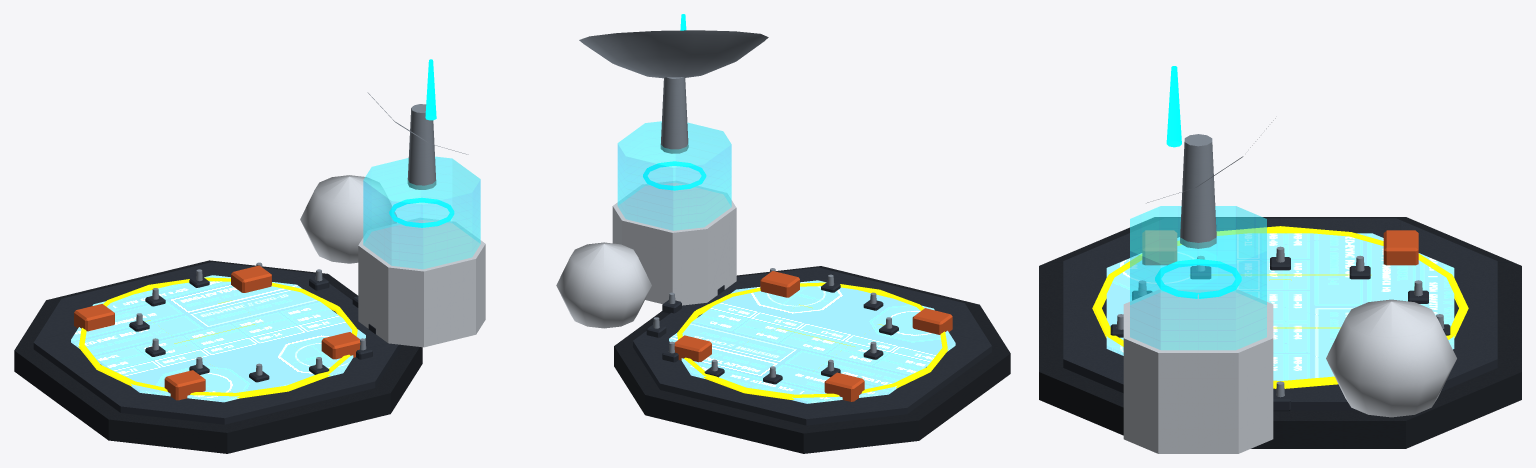
File: prop_05_r1_04.glb
3 views of the same model, side by side, from view 1: azimuth 30°, elevation 25°; view 2: azimuth 150°, elevation 25°; view 3: azimuth 270°, elevation 25° (orthographic). The views are drawn at different scales.
Parts seen in each view (by area): view 1: Prop05_C04_marquee, Prop05_C04_aero_white, Prop05_C04_carbon_slate, Prop05_C04_gunmetal, Prop05_C04_glass_cyan, Prop05_C04_accent_orange, Prop05_C04_steel_machined, Prop05_C04_led_amber, Prop05_C04_led_cyan; view 2: Prop05_C04_marquee, Prop05_C04_aero_white, Prop05_C04_carbon_slate, Prop05_C04_gunmetal, Prop05_C04_glass_cyan, Prop05_C04_steel_machined, Prop05_C04_accent_orange, Prop05_C04_led_amber, Prop05_C04_led_cyan; view 3: Prop05_C04_aero_white, Prop05_C04_marquee, Prop05_C04_gunmetal, Prop05_C04_carbon_slate, Prop05_C04_glass_cyan, Prop05_C04_steel_machined, Prop05_C04_led_amber, Prop05_C04_accent_orange, Prop05_C04_led_cyan.
Part boxes in pixels (box(x1,y1,x2,y2)): Prop05_C04_marquee: box(71, 275, 365, 402); Prop05_C04_aero_white: box(300, 175, 485, 347); Prop05_C04_carbon_slate: box(33, 262, 402, 424); Prop05_C04_gunmetal: box(14, 260, 422, 453); Prop05_C04_glass_cyan: box(363, 156, 480, 268); Prop05_C04_accent_orange: box(74, 265, 360, 400); Prop05_C04_steel_machined: box(136, 92, 468, 375); Prop05_C04_led_amber: box(78, 277, 357, 398); Prop05_C04_led_cyan: box(389, 59, 454, 227); Prop05_C04_marquee: box(669, 280, 955, 403); Prop05_C04_aero_white: box(556, 181, 736, 328); Prop05_C04_carbon_slate: box(633, 267, 991, 425); Prop05_C04_gunmetal: box(614, 266, 1010, 453); Prop05_C04_glass_cyan: box(617, 121, 731, 230); Prop05_C04_steel_machined: box(579, 30, 892, 377); Prop05_C04_accent_orange: box(674, 271, 952, 401); Prop05_C04_led_amber: box(677, 282, 948, 399); Prop05_C04_led_cyan: box(643, 14, 706, 190); Prop05_C04_aero_white: box(1123, 290, 1456, 453); Prop05_C04_marquee: box(1106, 233, 1454, 380); Prop05_C04_gunmetal: box(1039, 217, 1521, 448); Prop05_C04_carbon_slate: box(1063, 218, 1497, 411); Prop05_C04_glass_cyan: box(1130, 206, 1266, 349); Prop05_C04_steel_machined: box(1116, 118, 1444, 397); Prop05_C04_led_amber: box(1092, 226, 1468, 388); Prop05_C04_accent_orange: box(1142, 230, 1418, 265); Prop05_C04_led_cyan: box(1155, 66, 1241, 298).
Size of the model in its own units: 6.7 by 4.73 by 5.
Materials: 9 (9 with a texture image).
